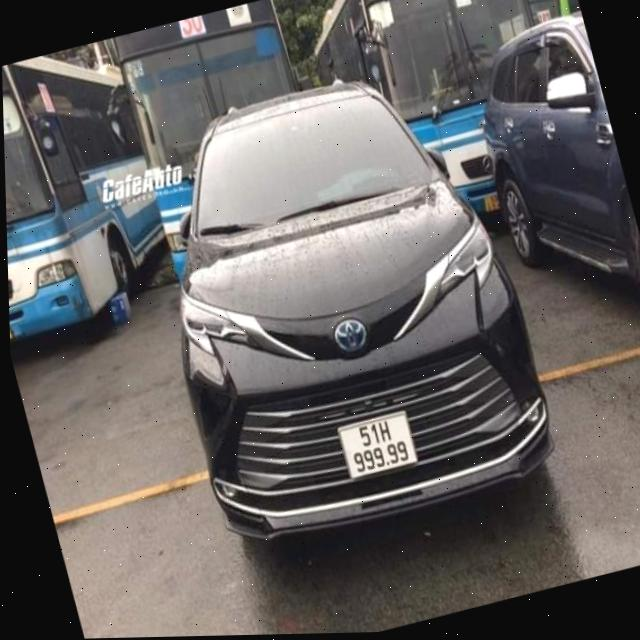car: (112, 36, 568, 582), (446, 8, 640, 413), (1, 36, 194, 368)
plate: (330, 406, 424, 484)
